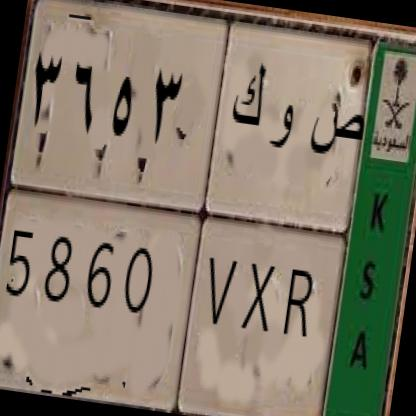english: (0, 176, 350, 416)
